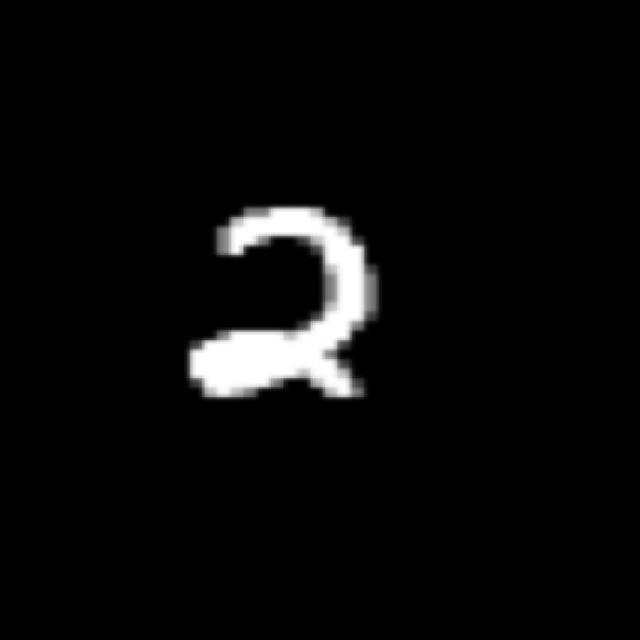two -2-: (174, 191, 389, 405)
